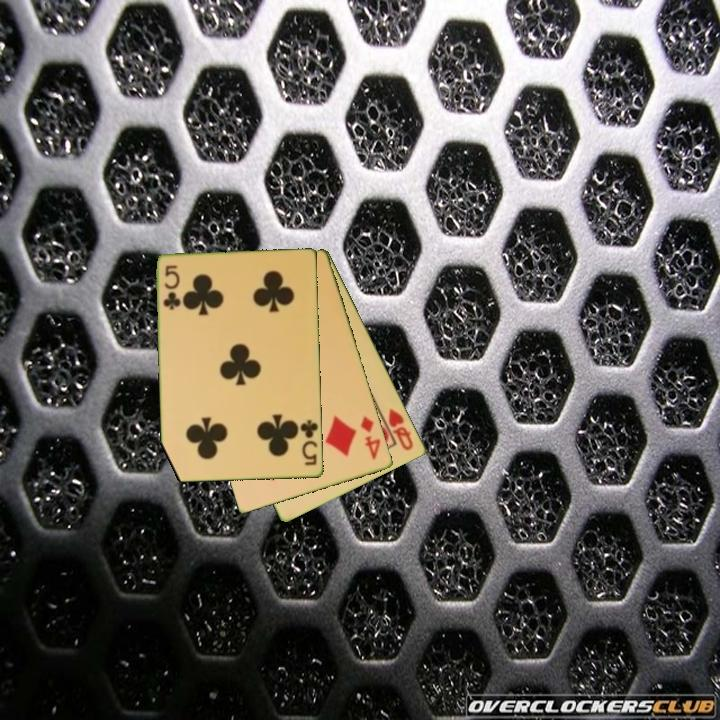4d: (357, 413, 384, 462)
5c: (297, 417, 321, 469), (160, 262, 183, 313)
Qh: (385, 405, 416, 454)
